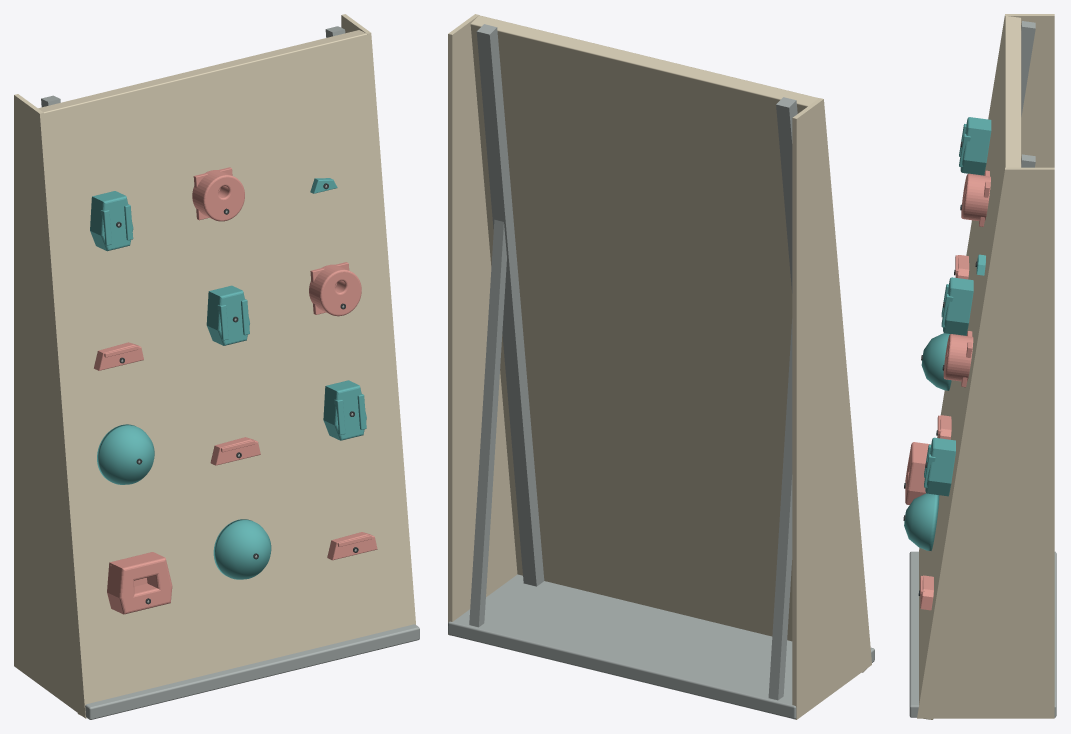
Rendered from indoor-climbing-and-bouldering-gym-indoor-climbing-and-c91ed1da__31513.glb.
The picture shows the model from 3 angles, left to right: view 1: azimuth 30°, elevation 25°; view 2: azimuth 150°, elevation 25°; view 3: azimuth 270°, elevation 25°; orthographic projection. The views are drawn at different scales.
Visible parts, largest first — view 1: indoor-climbing-and-bouldering-gym-slab-wall-panel; view 2: indoor-climbing-and-bouldering-gym-slab-wall-panel; view 3: indoor-climbing-and-bouldering-gym-slab-wall-panel.
Part boxes in pixels (<box>): indoor-climbing-and-bouldering-gym-slab-wall-panel: <box>14,14,419,719</box>; indoor-climbing-and-bouldering-gym-slab-wall-panel: <box>448,14,874,719</box>; indoor-climbing-and-bouldering-gym-slab-wall-panel: <box>903,14,1056,719</box>.
Bounding box in the file's own units: 2 × 3.32 × 0.8333.
